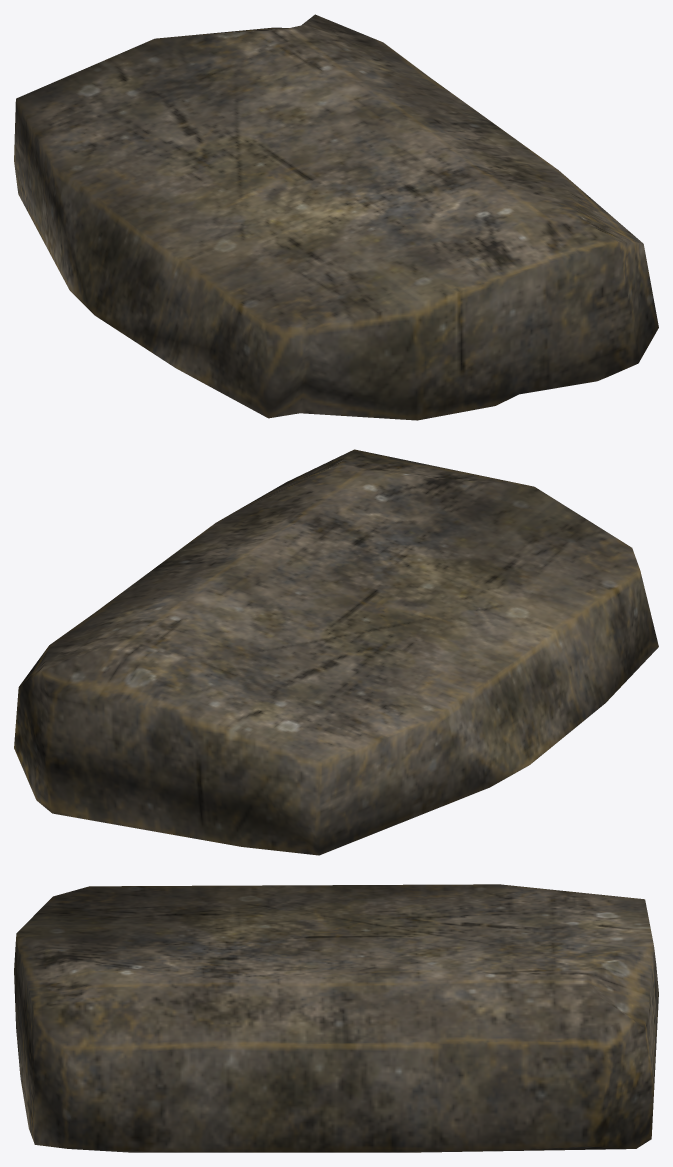
Rendered from FlatRock_04.fbx.
3 renders of one model, top to bottom at view 1: azimuth 30°, elevation 25°; view 2: azimuth 150°, elevation 25°; view 3: azimuth 270°, elevation 25°, orthographic. The views are drawn at different scales.
Parts seen in each view (by area): view 1: FlatRock_04; view 2: FlatRock_04; view 3: FlatRock_04.
Boxes of the visible parts, x1,y1,x2,y2 form: FlatRock_04: [14, 14, 658, 420]; FlatRock_04: [14, 449, 658, 855]; FlatRock_04: [14, 884, 658, 1152].
Bounding box in the file's own units: 0.5732 × 0.2008 × 0.8.
Materials: 1 (1 with a texture image).
